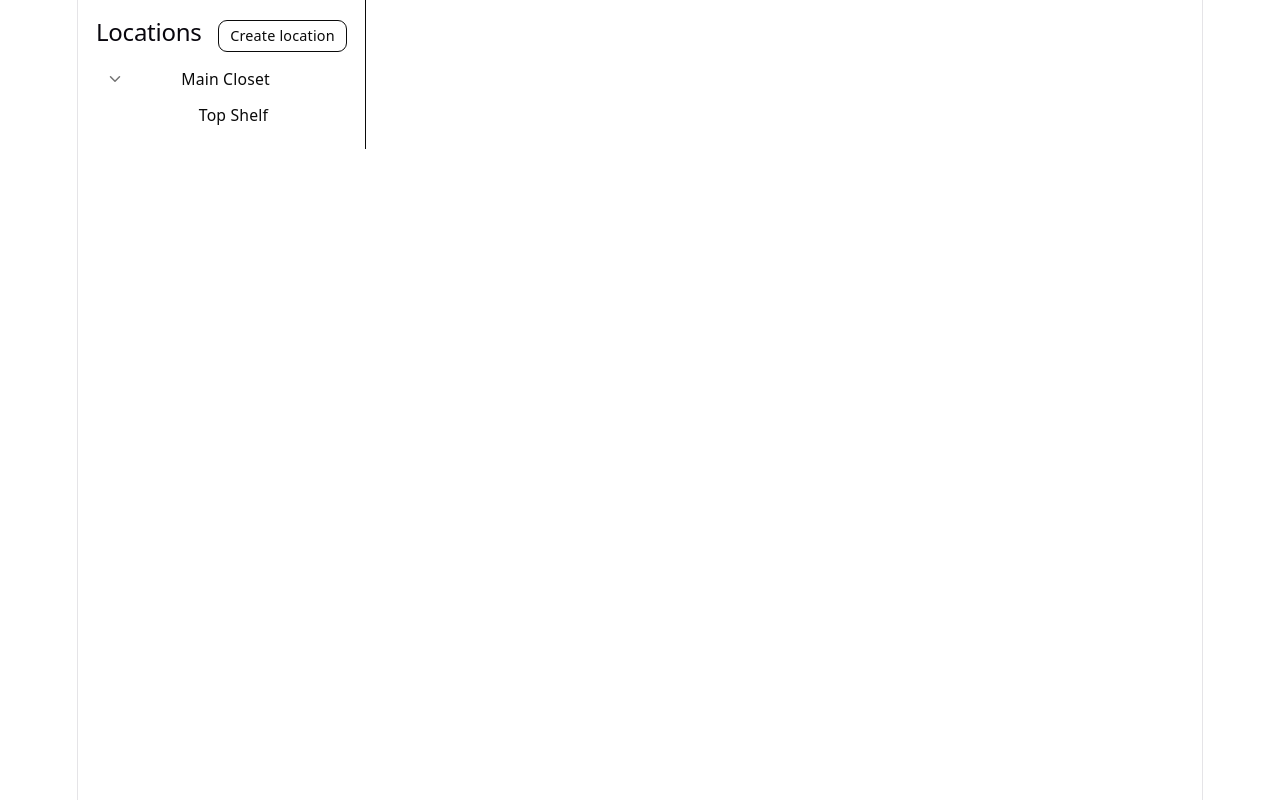
Scenario: LocationsPage › LocationsPage should show breadcrumb ancestors in detail panel when child location is selected
The width and height of the screenshot is (1280, 800).
Click the button with test id "tree-node-loc-002" at (233, 115), box [199, 104, 268, 126]
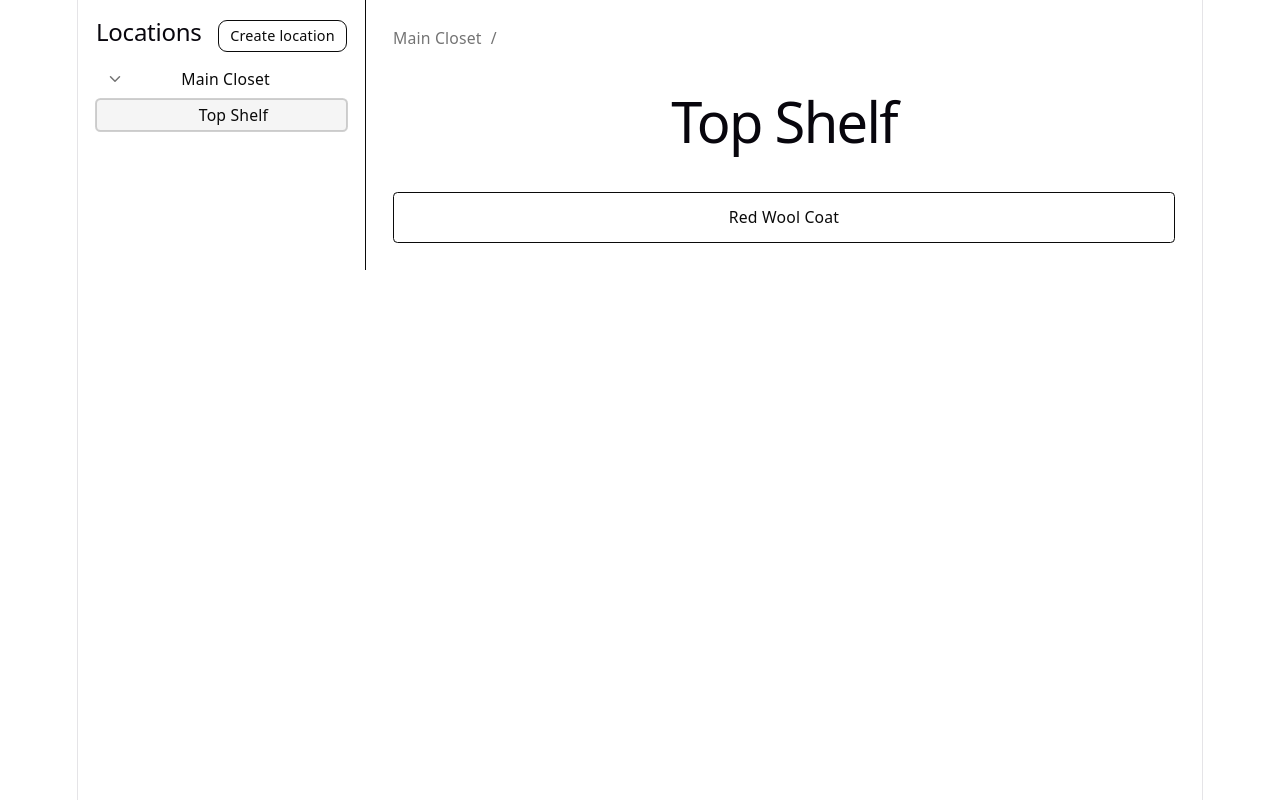
Check: the element with test id "location-breadcrumb" is shown, box [393, 27, 497, 49]
Check: the element with test id "location-breadcrumb" shows "Main Closet", box [393, 27, 482, 49]
